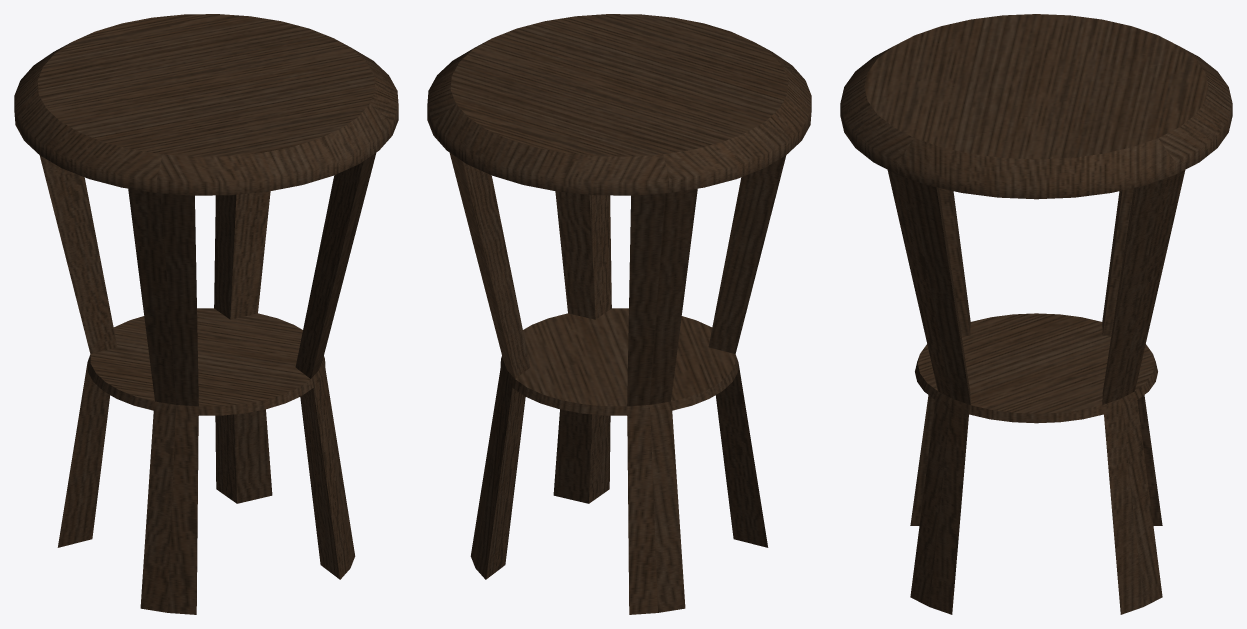
Rendered from Table.fbx.
3 renders of one model, left to right at view 1: azimuth 30°, elevation 25°; view 2: azimuth 150°, elevation 25°; view 3: azimuth 270°, elevation 25°, orthographic.
Visible parts, largest first — view 1: Cylinder; view 2: Cylinder; view 3: Cylinder.
Boxes of the visible parts, x1=… form: Cylinder: x1=14, y1=14, x2=398, y2=614; Cylinder: x1=427, y1=14, x2=811, y2=614; Cylinder: x1=840, y1=14, x2=1232, y2=614.
Bounding box in the file's own units: 215 × 288 × 215.
